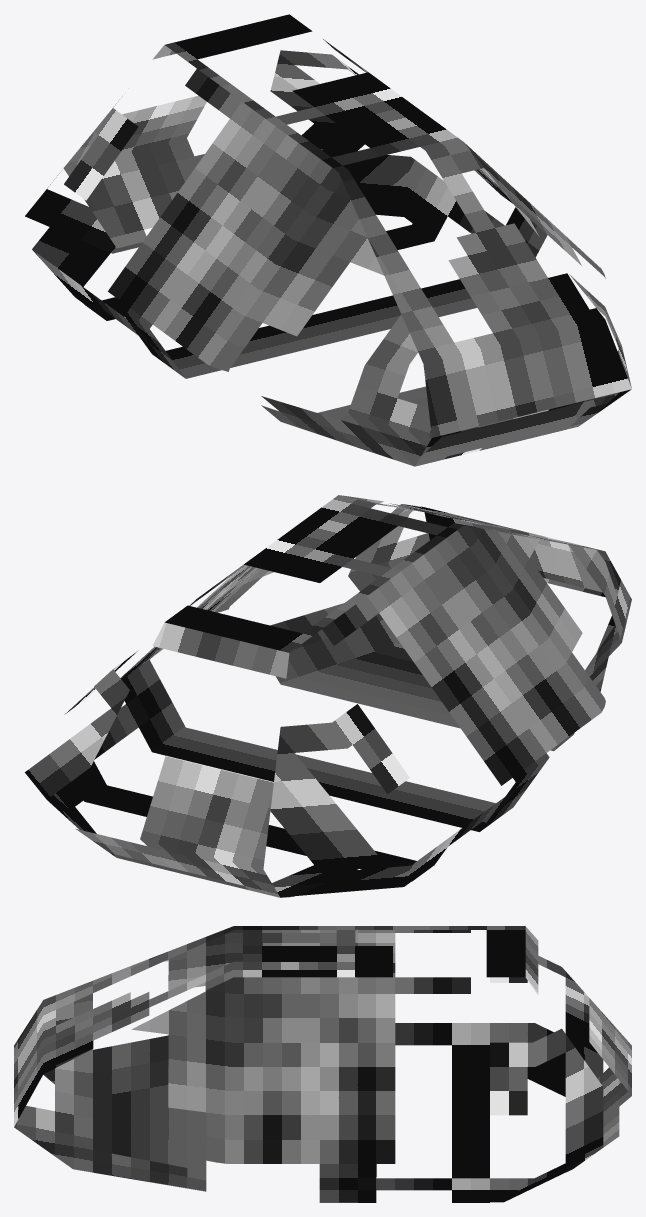
File: centipede_wreck.glb
The picture shows the model from 3 angles, top to bottom: view 1: azimuth 30°, elevation 25°; view 2: azimuth 150°, elevation 25°; view 3: azimuth 270°, elevation 25°; orthographic projection. The views are drawn at different scales.
Parts seen in each view (by area): view 1: CentipedeL1; view 2: CentipedeL1; view 3: CentipedeL1.
Part boxes in pixels (x1,y1,x2,y2): CentipedeL1: [25, 14, 631, 466]; CentipedeL1: [25, 495, 631, 897]; CentipedeL1: [14, 926, 631, 1202].
Bounding box in the file's own units: 3.33 × 1.75 × 5.31.
Materials: 1 (1 with a texture image).
